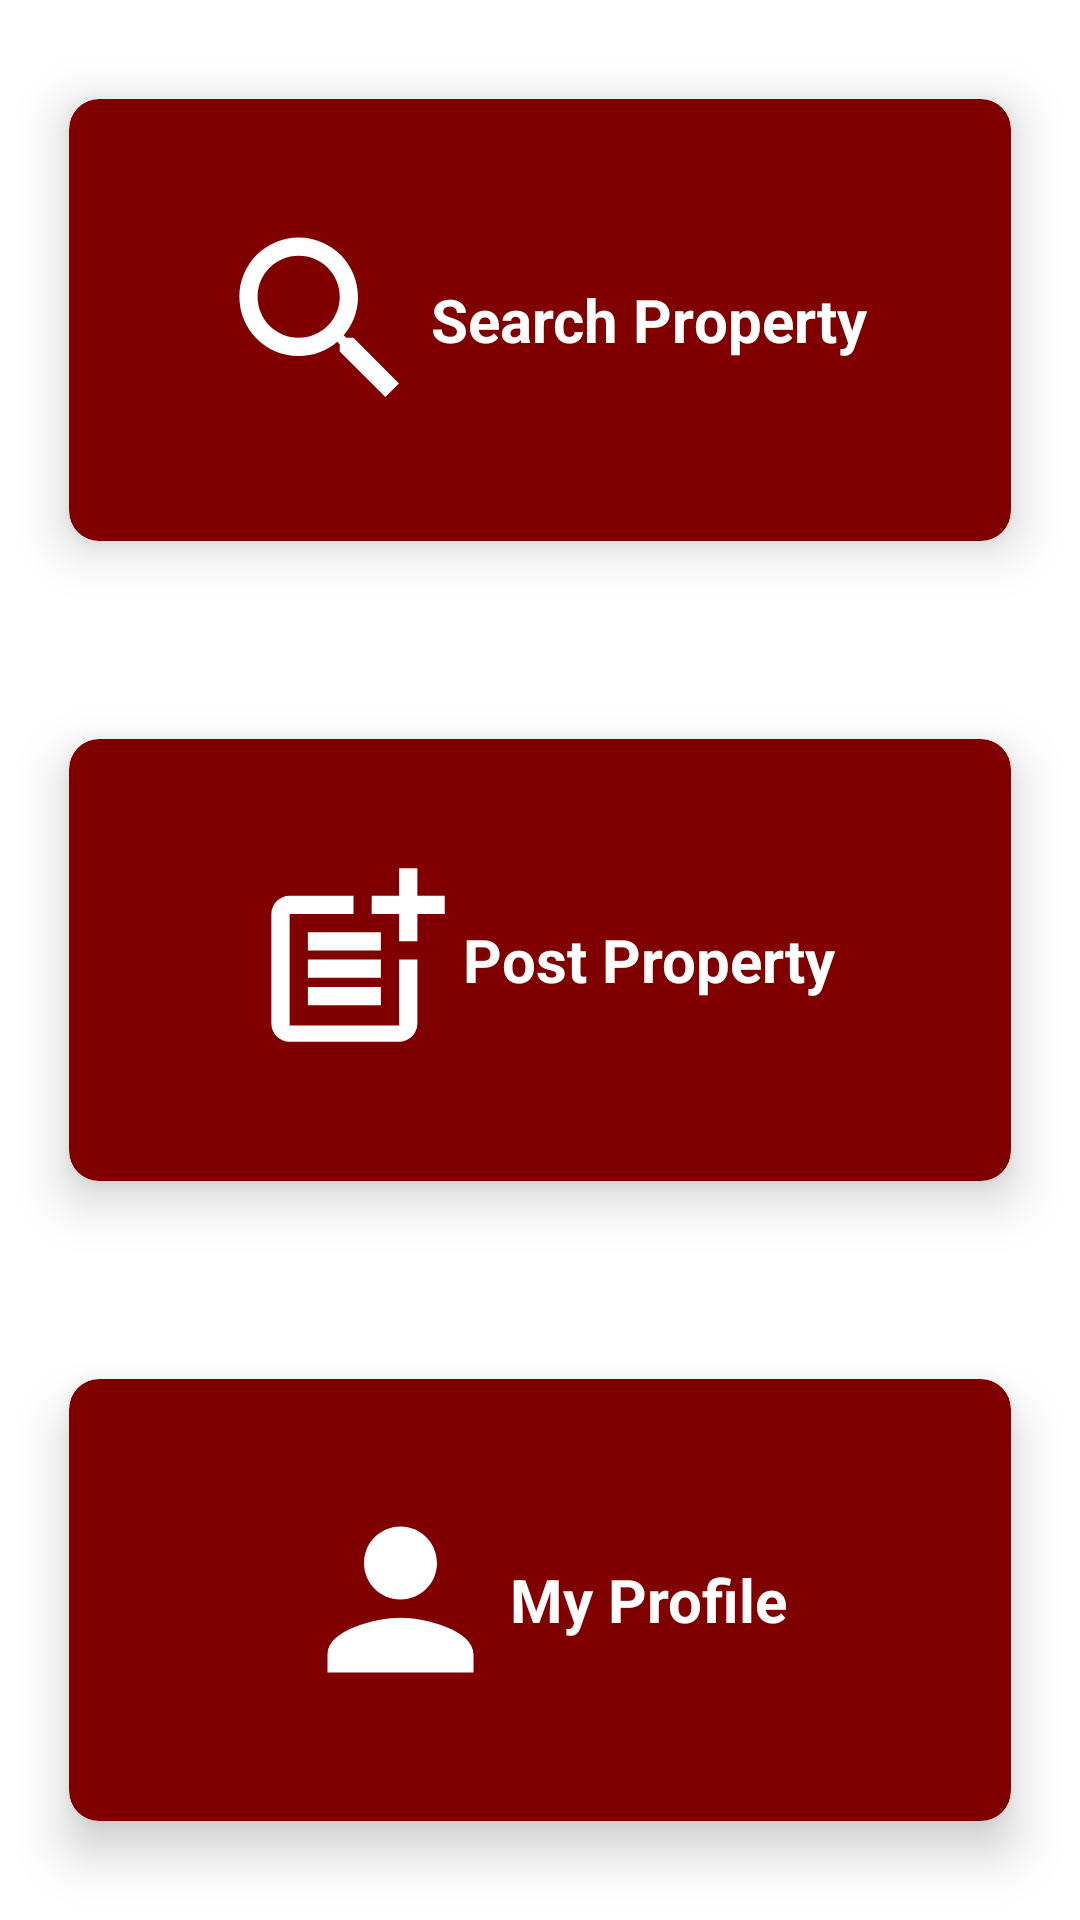

Where to tap for icons on this 1080x1920 app screen, as (x=x, y=y):
person menu: (x=400, y=1599)
post menu: (x=358, y=955)
search menu: (x=319, y=317)
